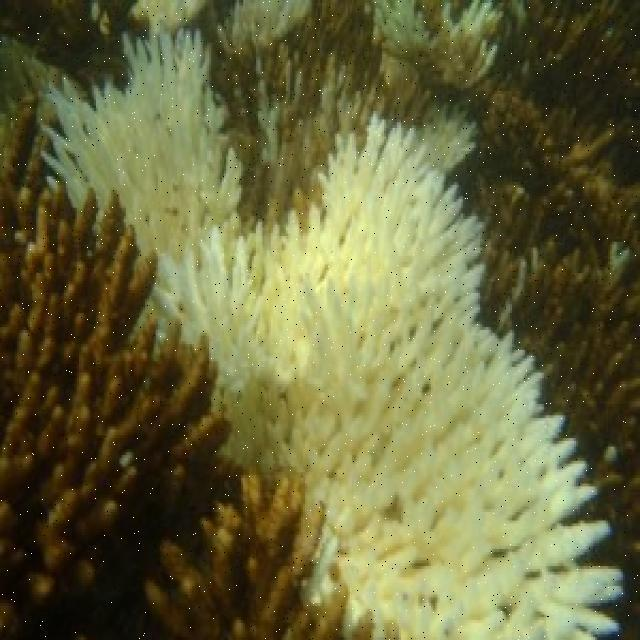Bleached: (264, 128, 484, 484), (48, 41, 239, 234), (376, 1, 502, 68), (229, 3, 311, 48), (135, 2, 206, 38)
Healthy: (1, 191, 217, 640), (506, 1, 640, 348), (312, 2, 374, 77)
